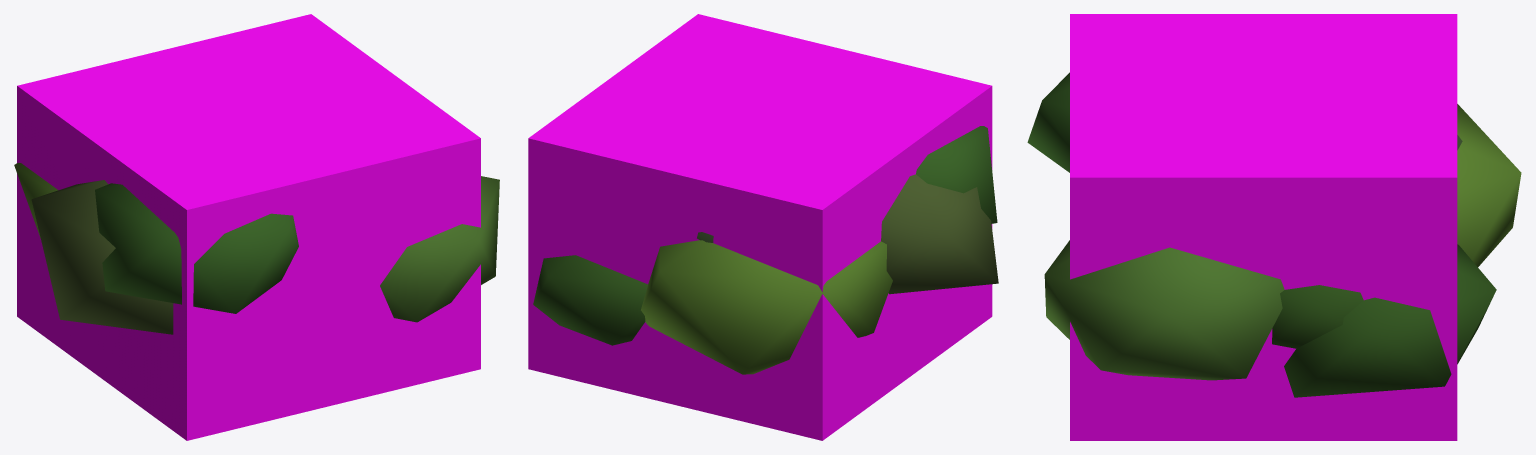
Rendered from PRP_Shrub_A.glb.
3 renders of one model, left to right at view 1: azimuth 30°, elevation 25°; view 2: azimuth 150°, elevation 25°; view 3: azimuth 270°, elevation 25°, orthographic. The views are drawn at different scales.
Visible parts, largest first — view 1: COL_Shrub, PRP_Shrub_A_Mesh; view 2: COL_Shrub, PRP_Shrub_A_Mesh; view 3: COL_Shrub, PRP_Shrub_A_Mesh.
Boxes of the visible parts, x1,y1,x2,y2 form: COL_Shrub: (17, 14, 480, 440); PRP_Shrub_A_Mesh: (14, 163, 499, 334); COL_Shrub: (528, 14, 992, 440); PRP_Shrub_A_Mesh: (533, 126, 998, 374); COL_Shrub: (1070, 14, 1457, 440); PRP_Shrub_A_Mesh: (1027, 72, 1521, 397).
Bounding box in the file's own units: 1.73 × 0.9 × 1.53.
